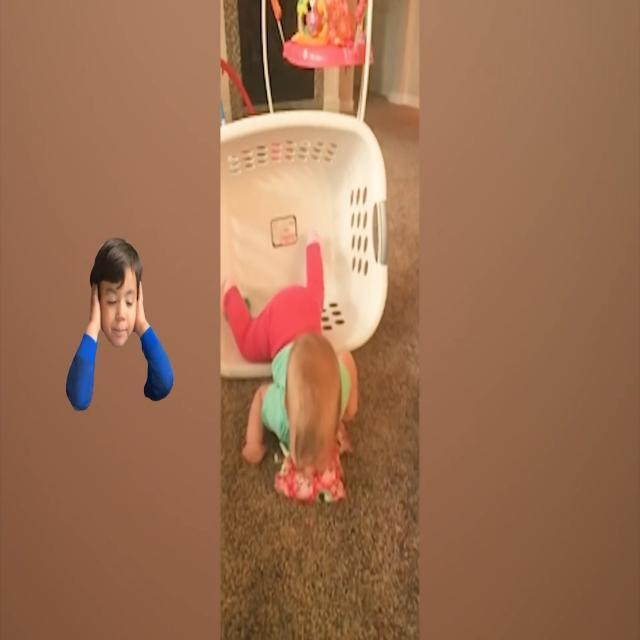child: (222, 227, 359, 474)
